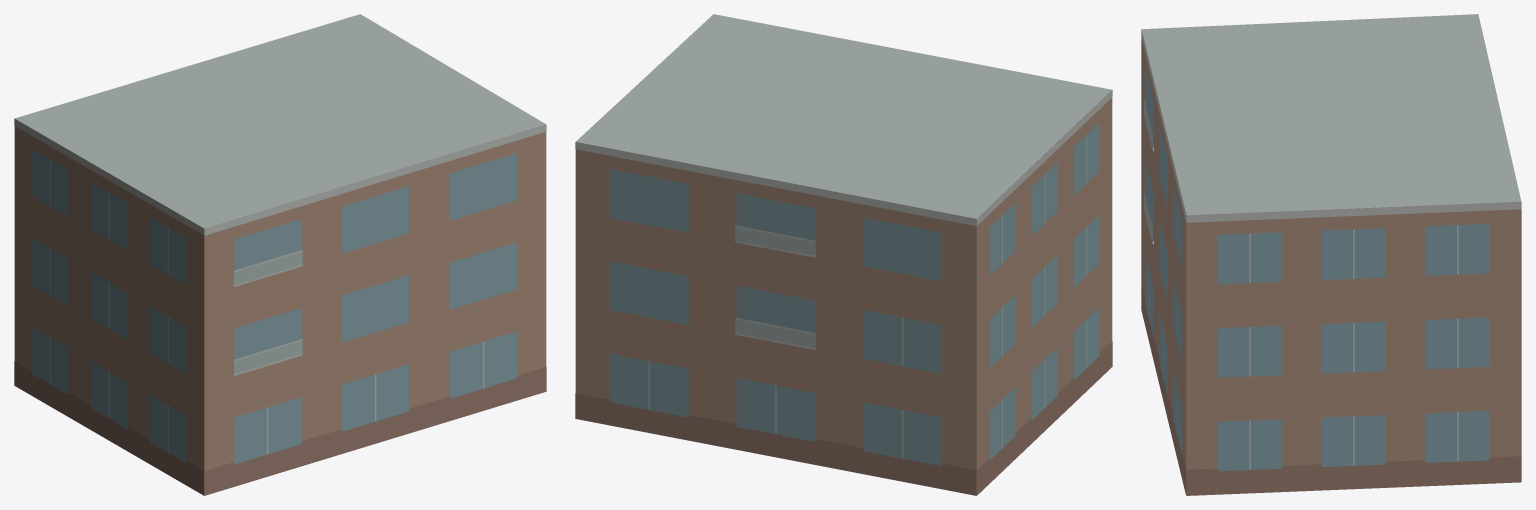
The model's file is survey-upis-32664212.glb.
3 views of the same model, side by side, from view 1: azimuth 30°, elevation 25°; view 2: azimuth 150°, elevation 25°; view 3: azimuth 270°, elevation 25° (orthographic). The views are drawn at different scales.
Visible parts, largest first — view 1: survey-upis-32664212.tmp; view 2: survey-upis-32664212.tmp; view 3: survey-upis-32664212.tmp.
Part boxes in pixels (<box>): survey-upis-32664212.tmp: <box>14,14,546,495</box>; survey-upis-32664212.tmp: <box>575,14,1112,495</box>; survey-upis-32664212.tmp: <box>1141,14,1521,495</box>.
Bounding box in the file's own units: 14.09 × 9.15 × 11.25.
